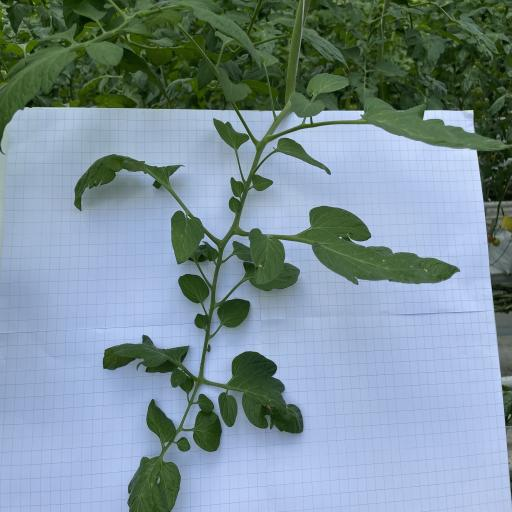Healthy: (0, 43, 76, 156), (360, 96, 512, 152), (176, 0, 263, 70), (113, 44, 172, 108), (102, 334, 190, 371), (273, 137, 331, 175), (302, 31, 350, 73), (171, 209, 204, 266), (456, 13, 500, 55), (146, 398, 177, 443), (212, 116, 250, 150), (218, 66, 252, 103), (193, 409, 222, 452), (306, 72, 350, 98), (157, 77, 193, 108), (86, 40, 124, 68), (217, 298, 250, 328), (178, 274, 210, 304), (116, 18, 158, 40), (290, 92, 324, 118), (73, 0, 107, 22), (6, 2, 28, 35), (218, 392, 238, 428), (197, 58, 216, 91), (252, 173, 274, 192), (198, 392, 214, 413), (230, 176, 244, 198)
